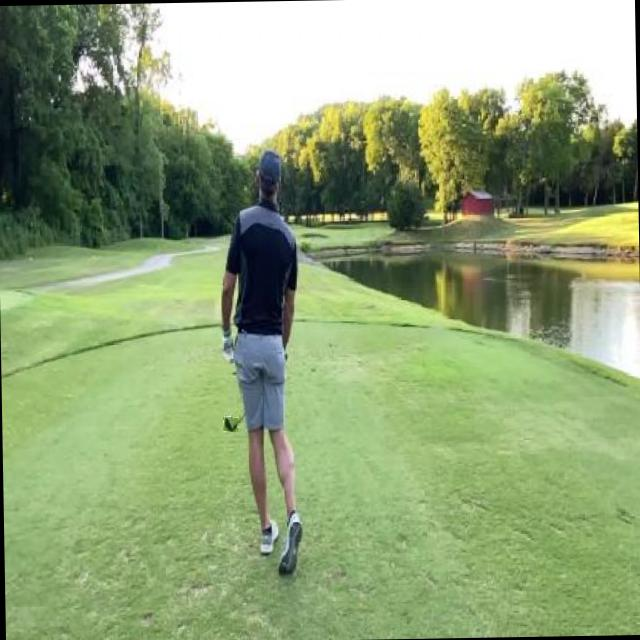club head: (223, 416, 238, 432)
